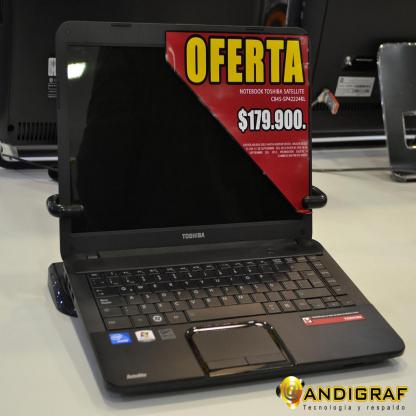board: (54, 19, 403, 394)
